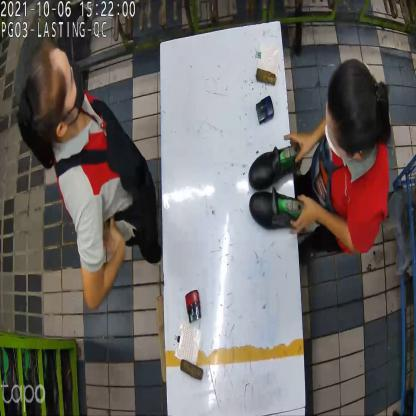shoes: (248, 144, 308, 235)
stamp: (184, 291, 203, 326), (256, 94, 274, 127)
